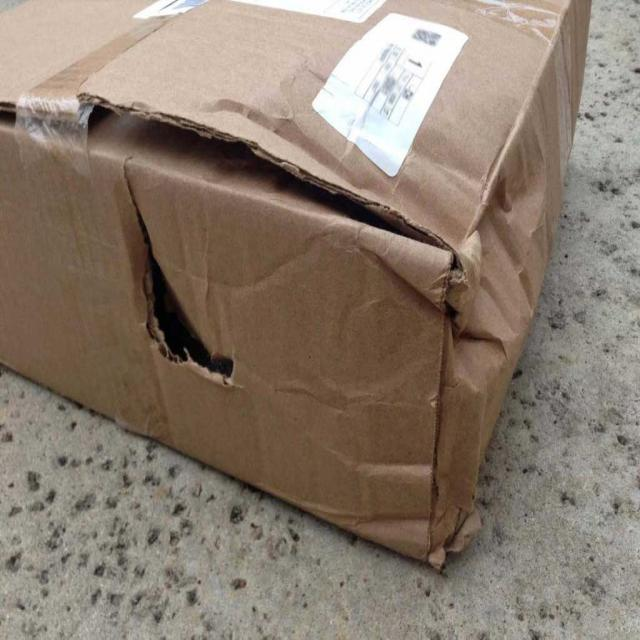damaged: (120, 170, 239, 393)
